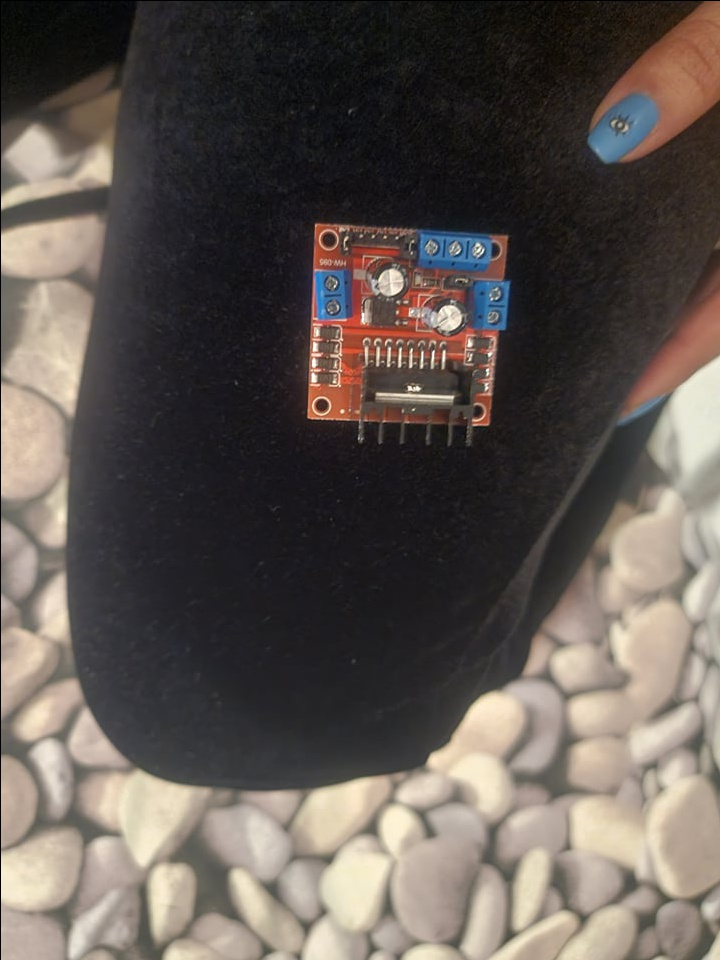MOTOR: (307, 222, 515, 445)
